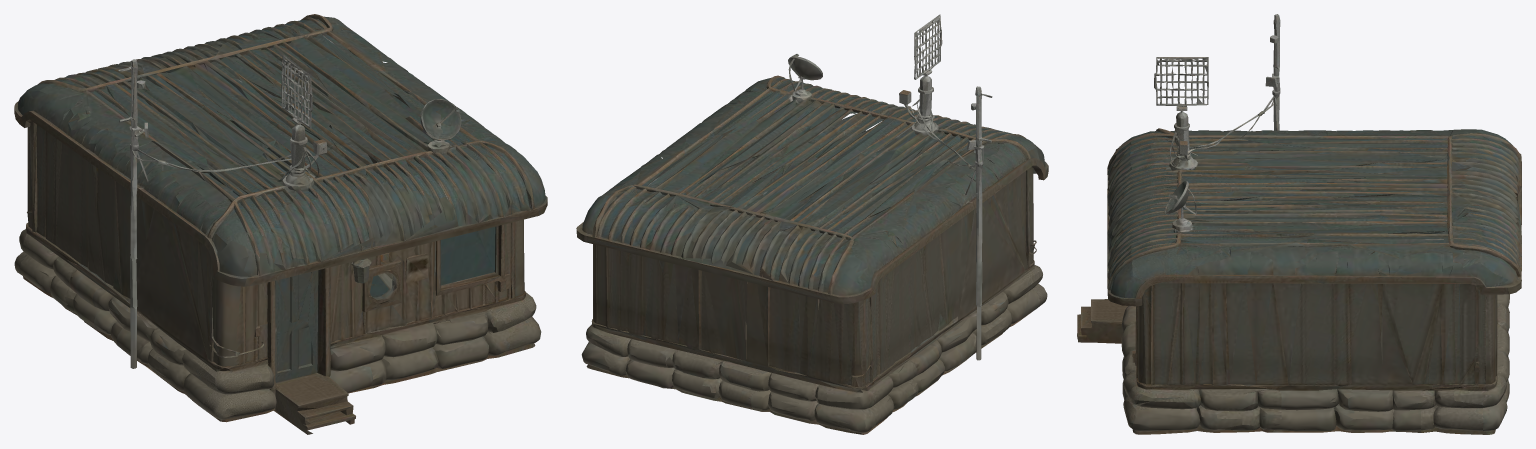
The model's file is abri_mara.glb.
The picture shows the model from 3 angles, left to right: view 1: azimuth 30°, elevation 25°; view 2: azimuth 150°, elevation 25°; view 3: azimuth 270°, elevation 25°; orthographic projection. The views are drawn at different scales.
Bounding box in the file's own units: 1.54 × 1.35 × 1.9.
1 material, 1 textured.
